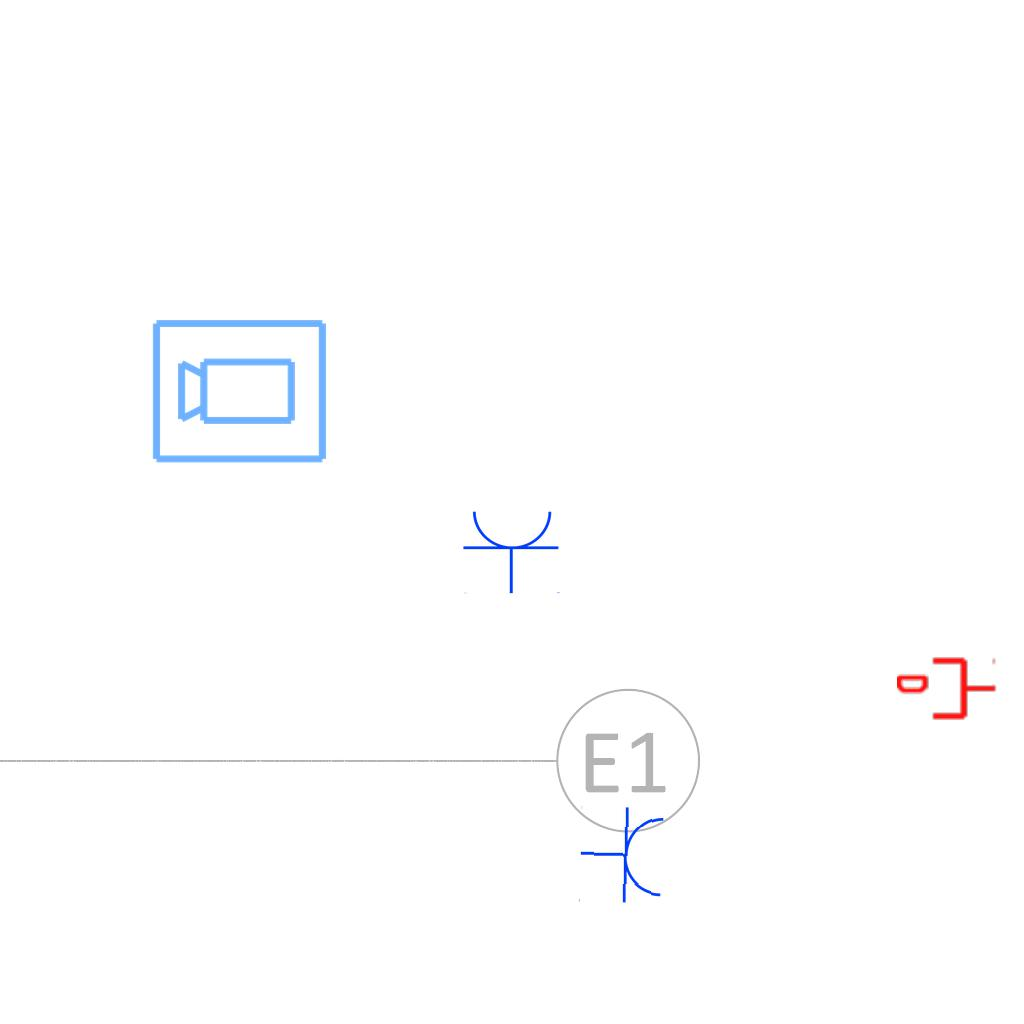Datenanschluss_einfach: (897, 654, 997, 723)
KFO_Kamera_mit_Festobjektiv: (149, 313, 331, 467)
Schukosteckdose_einfach: (577, 804, 669, 907), (462, 507, 562, 594)
